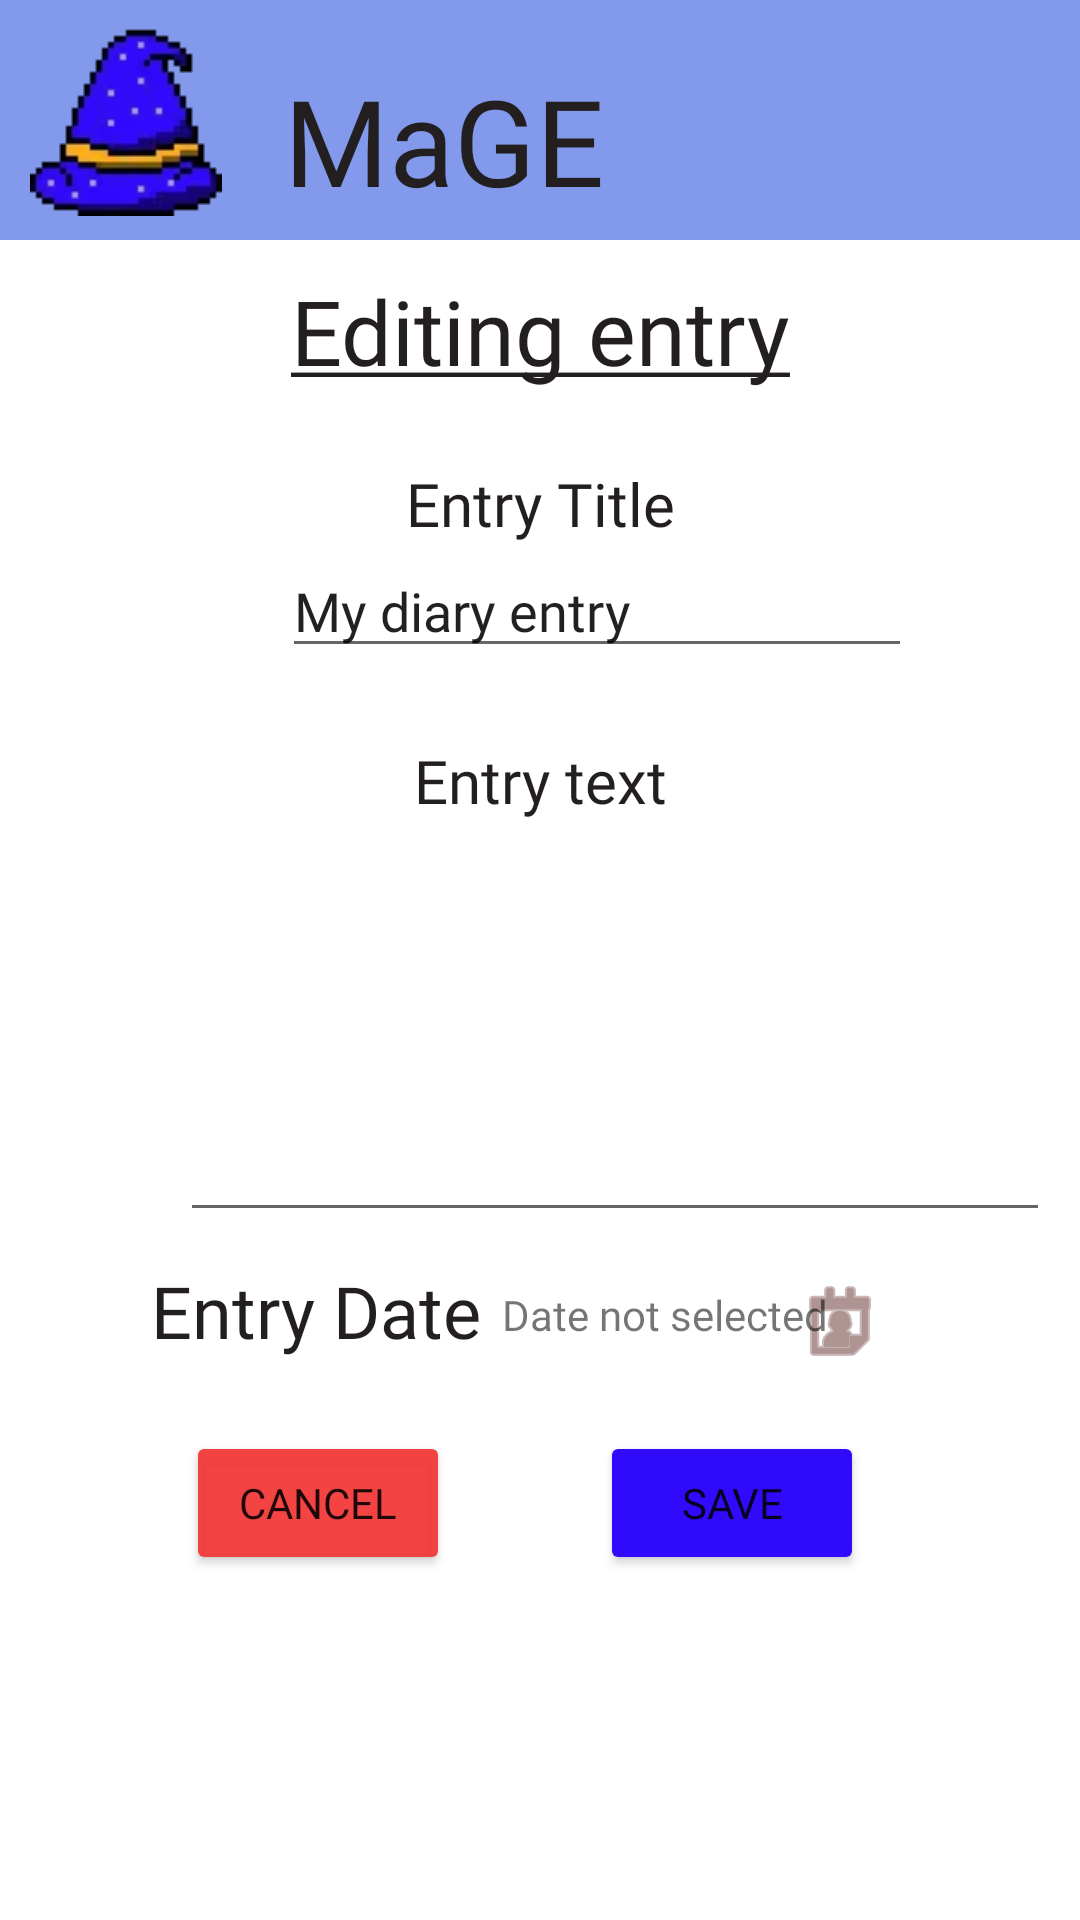

Screen size 1080 × 1920. Icon name, then its box in pixels as (x1, y1, x2, y2):
calendar: (806, 1286, 871, 1356)
